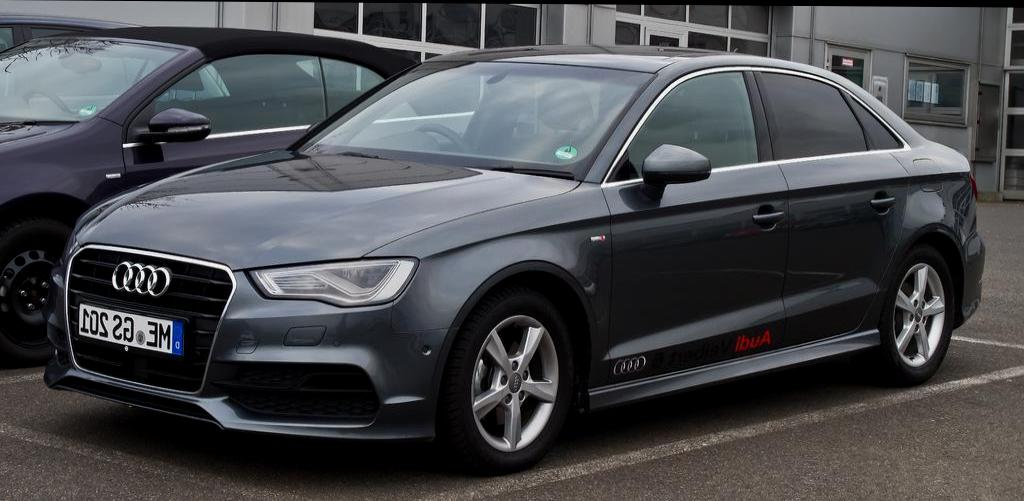License_Plate: (79, 298, 187, 358)
